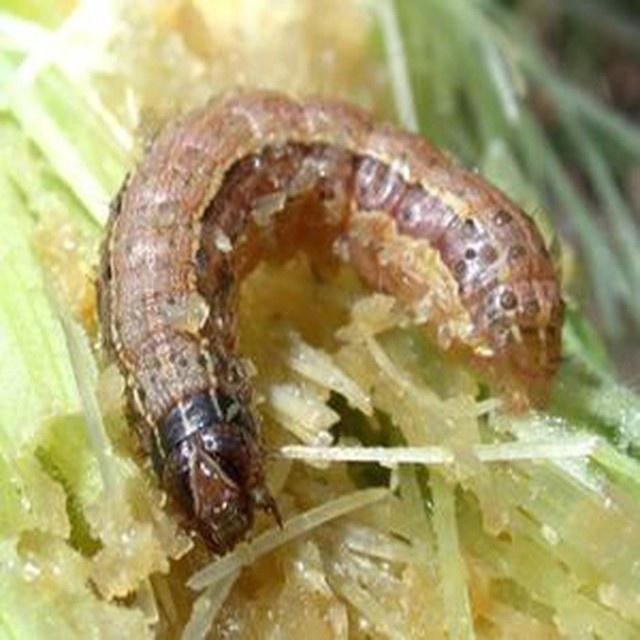gusano_cogollero: (91, 81, 564, 554)
